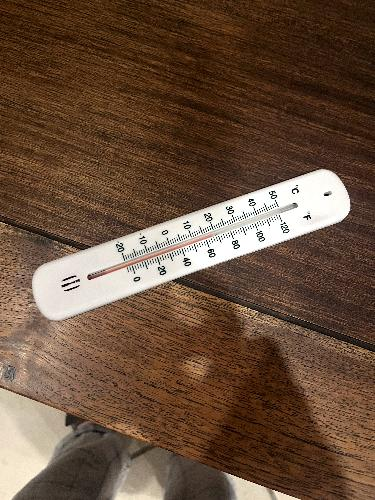thermo: (27, 166, 349, 327)
